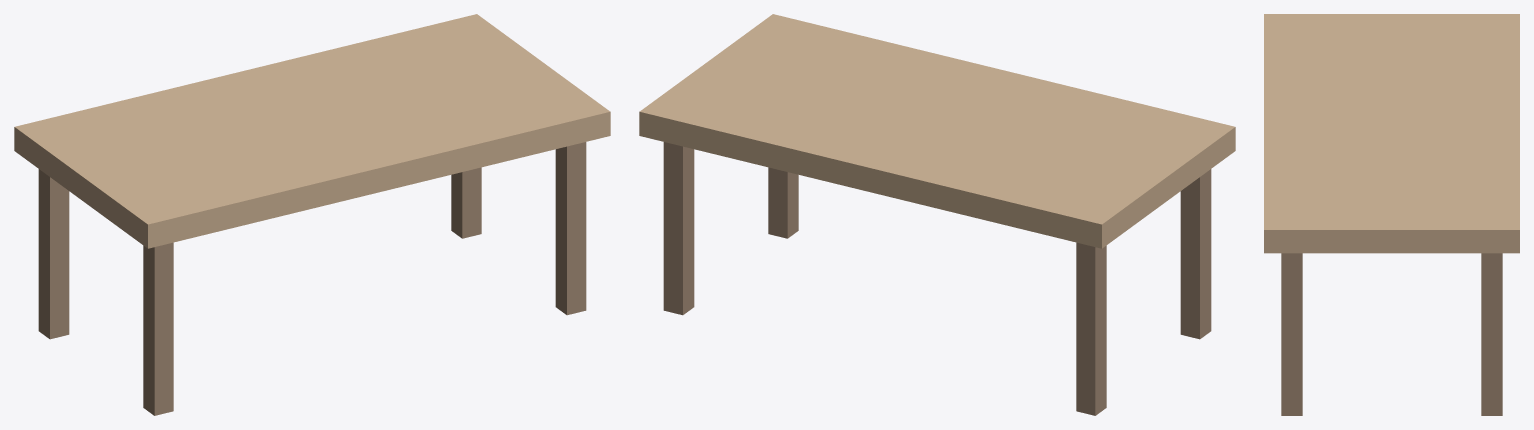
Rendered from dining-table.glb.
3 views of the same model, side by side, from view 1: azimuth 30°, elevation 25°; view 2: azimuth 150°, elevation 25°; view 3: azimuth 270°, elevation 25° (orthographic). The views are drawn at different scales.
Visible parts, largest first — view 1: Dining Table; view 2: Dining Table; view 3: Dining Table.
Boxes of the visible parts, box(x1,y1,x2,y2) form: Dining Table: box(14, 14, 610, 415); Dining Table: box(639, 14, 1235, 415); Dining Table: box(1264, 14, 1519, 415).
Bounding box in the file's own units: 1.8 × 0.75 × 0.9.
